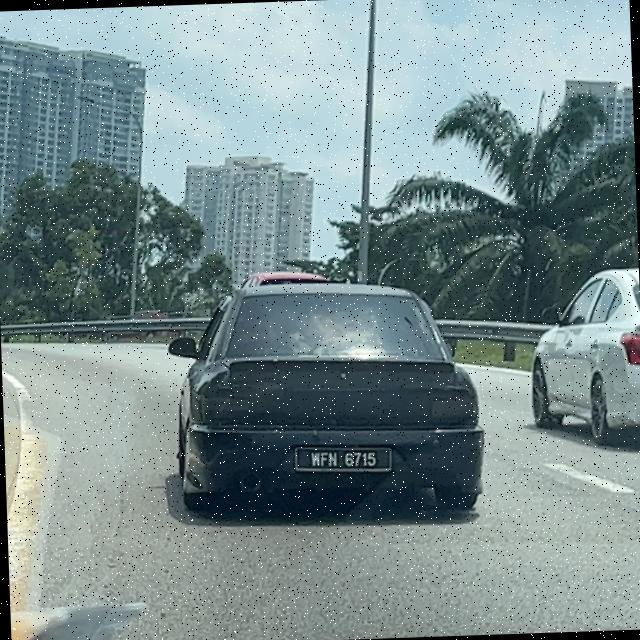License_Plate: (293, 436, 396, 475)
car: (166, 275, 497, 524)
